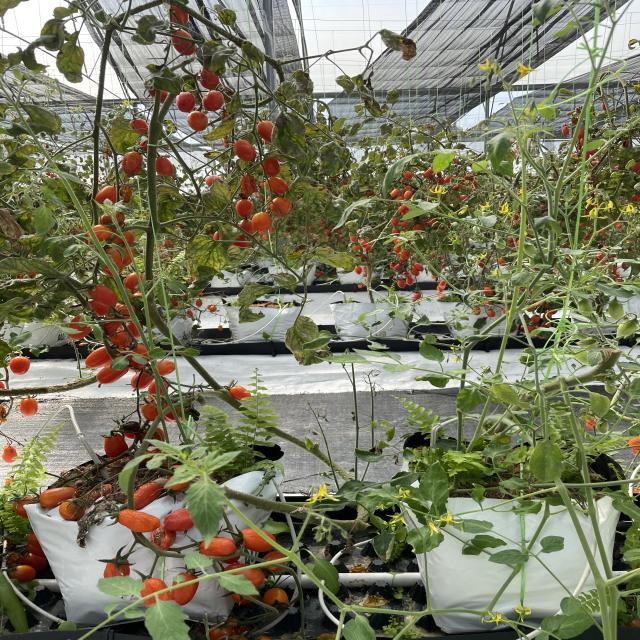Soilbag: (388, 446, 616, 624), (37, 458, 277, 620)
plant: (377, 66, 624, 479), (60, 31, 287, 451)
